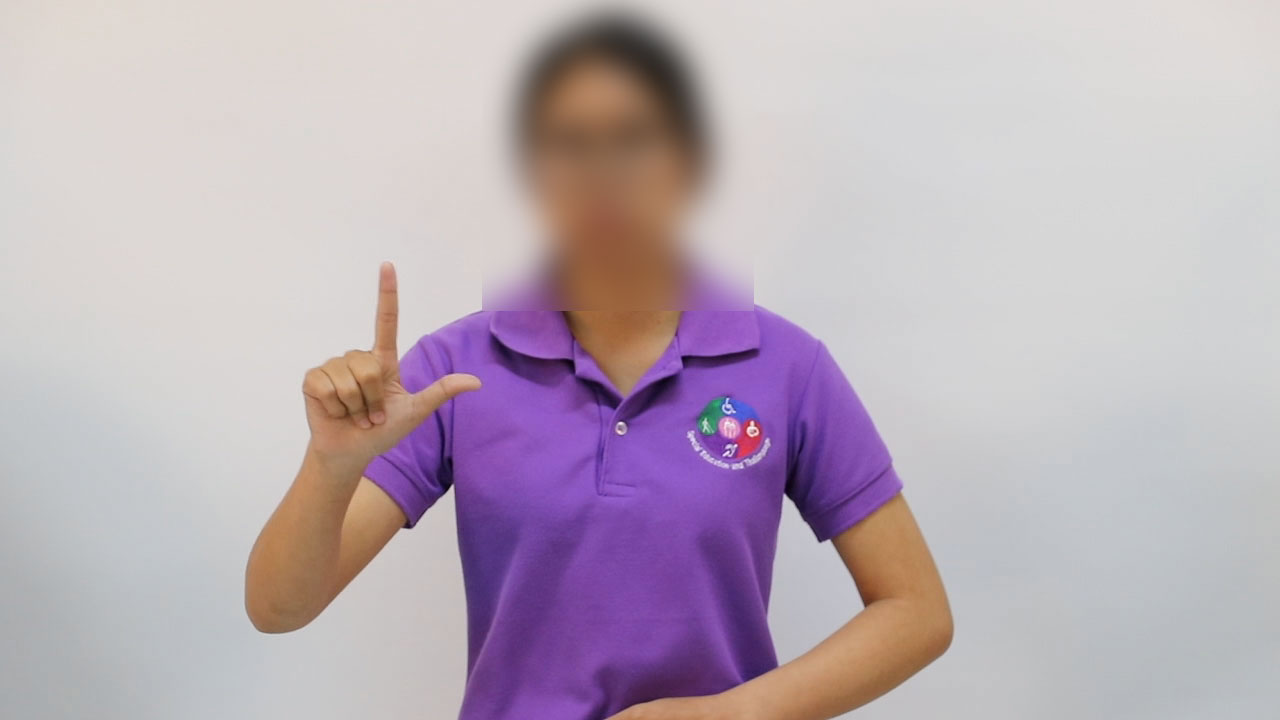lor: (292, 250, 489, 474)
